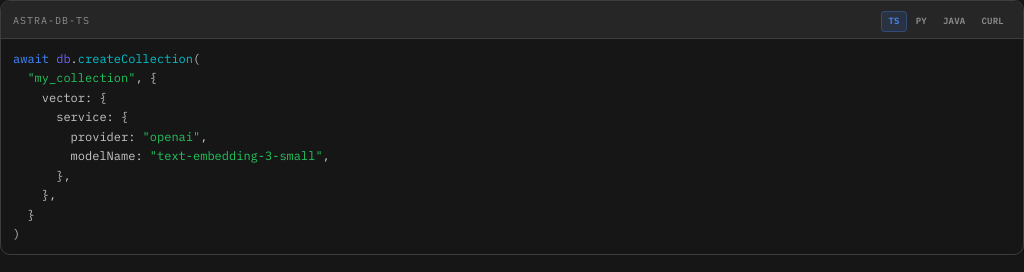
Test: CollectionCodePreview › renders vectorize service definitions and curl output
Click the button "cURL".
click(993, 21)  # box 974,11 -> 1011,32
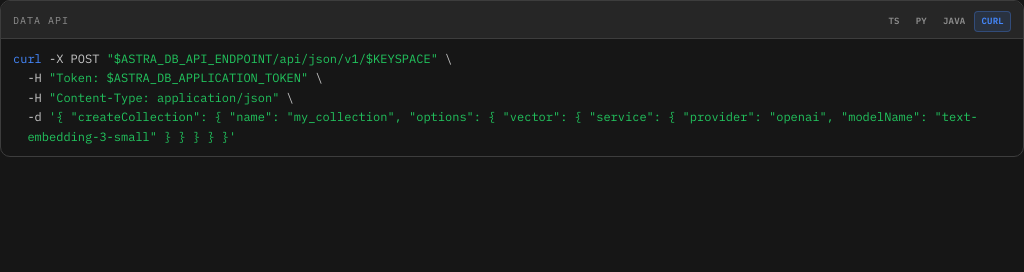
Expected: the text "Data API" is shown, 13,13 -> 69,30
